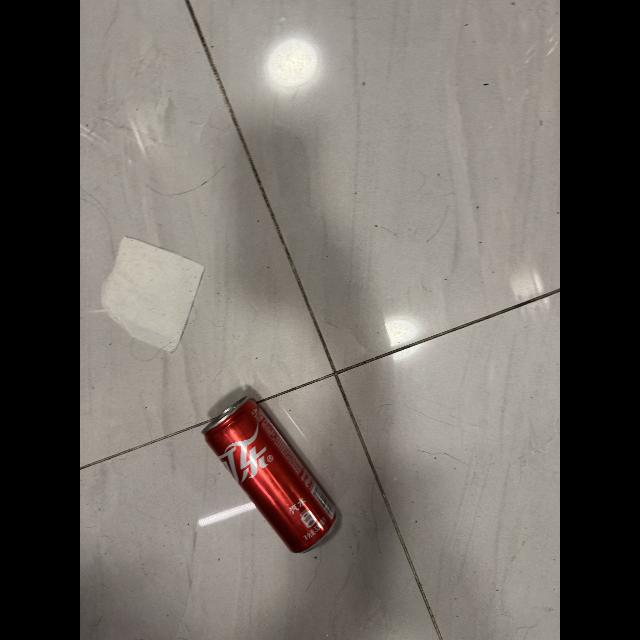Cola: (192, 386, 356, 564)
